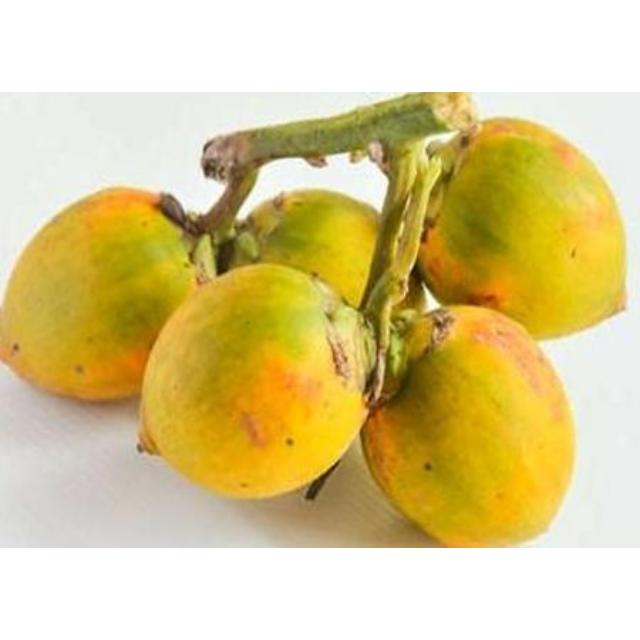good: (138, 264, 368, 500), (361, 304, 574, 546), (412, 115, 626, 339), (0, 188, 204, 402), (236, 189, 388, 311)
